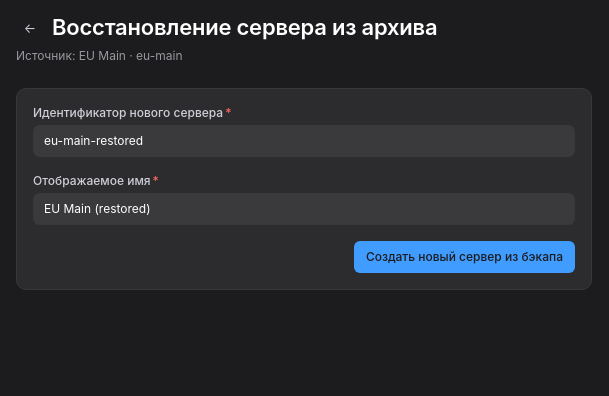
Test: #662 409 restore errors are distinguished by response body › slug_in_use: "идентификатор уже занят"
The image size is (609, 396).
Expected: the field labelled "Идентификатор нового сервера*" is shown, [33,125,575,157]
Click the button "Создать новый сервер из бэкапа" at [464, 257], box [354,241,575,273]
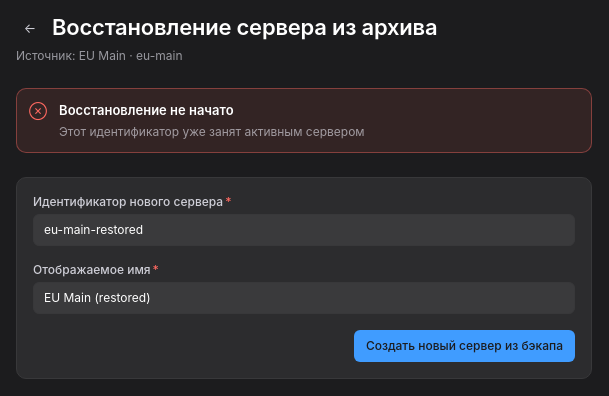
Result: the message shows "Этот идентификатор уже занят активным сервером" at [59,124,365,139]
